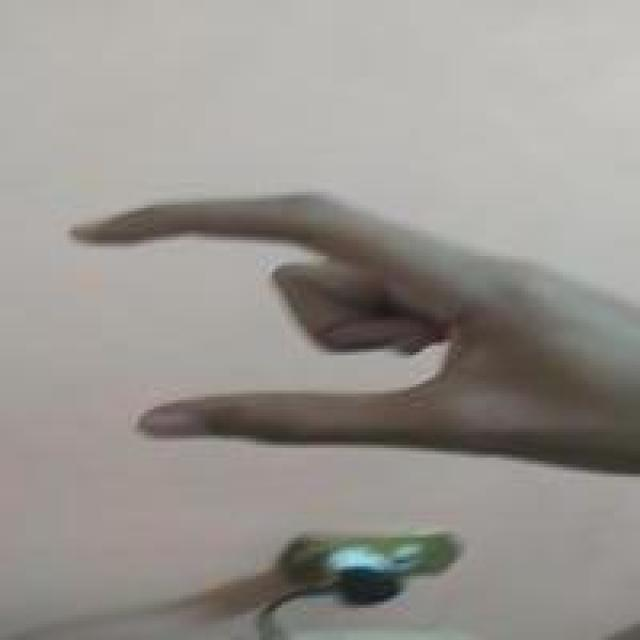Q: (64, 186, 640, 477)
